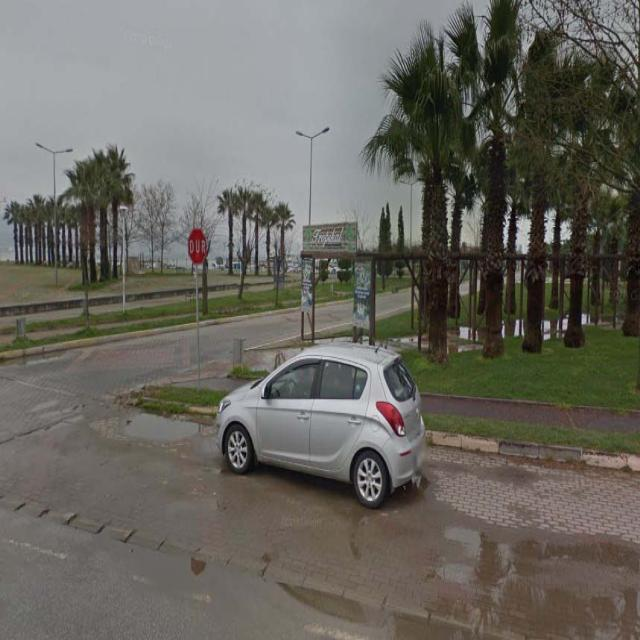dur: (187, 227, 207, 265)
